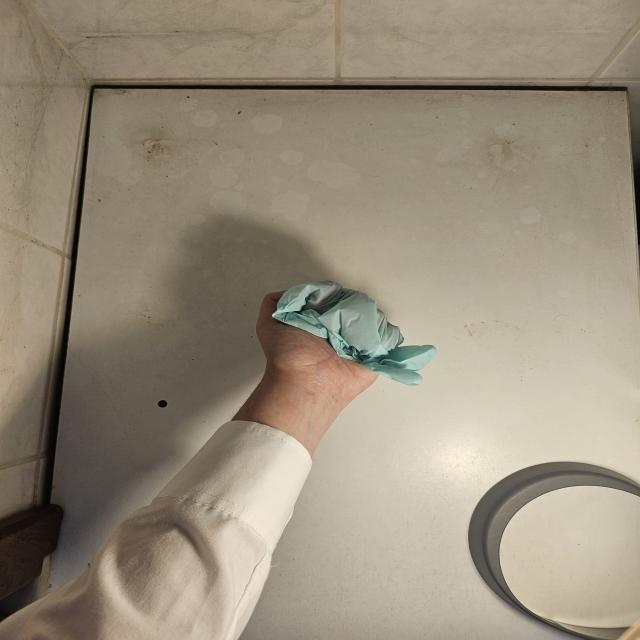glove_partial: (254, 277, 441, 388)
